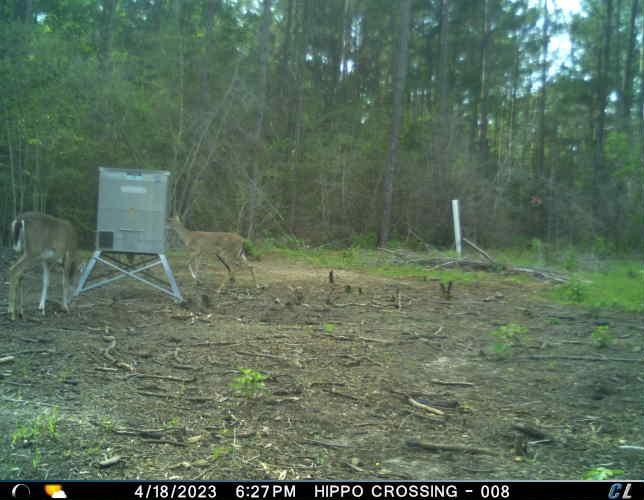Deer: (3, 211, 85, 324), (166, 210, 263, 296)
